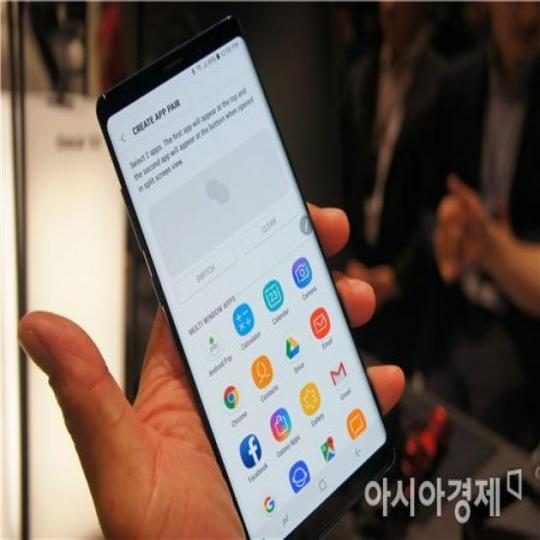phone: (92, 12, 401, 540)
